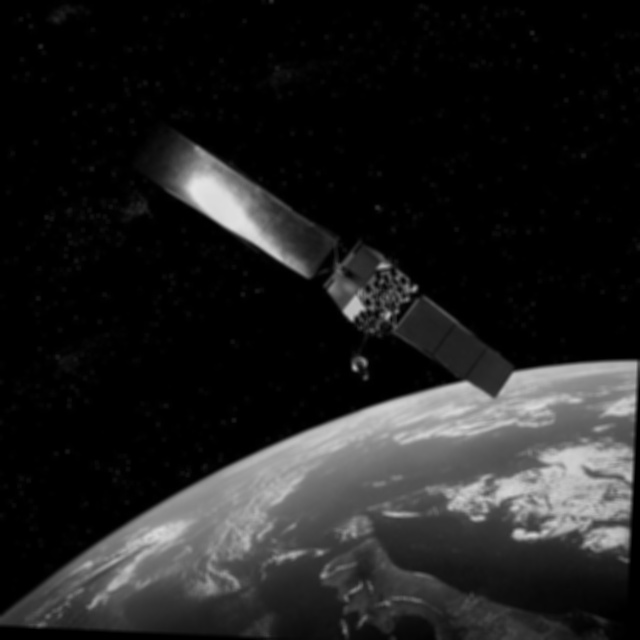satellite: (117, 110, 528, 406)
